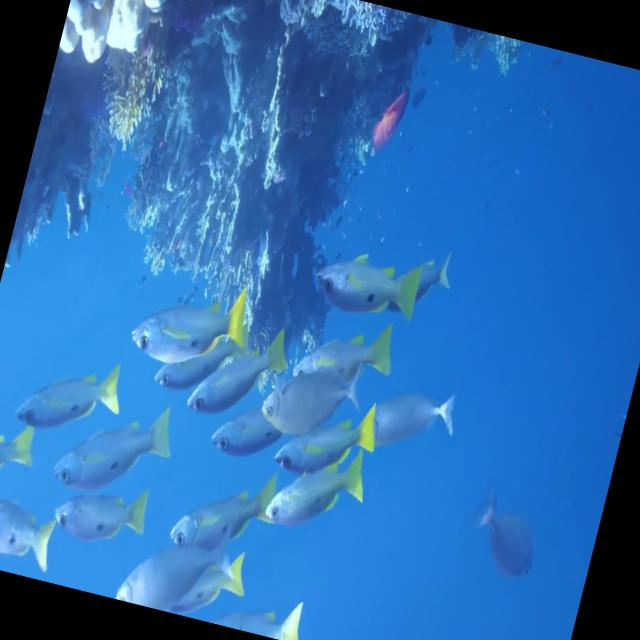fish: (122, 252, 264, 382), (49, 378, 181, 512), (177, 312, 300, 444), (115, 522, 250, 628), (163, 459, 279, 576), (16, 337, 136, 450), (254, 432, 370, 548), (182, 313, 292, 434), (252, 344, 366, 448), (306, 235, 424, 332), (283, 309, 397, 407), (49, 462, 154, 562), (273, 406, 381, 490), (367, 372, 462, 464), (0, 412, 44, 519), (0, 492, 60, 569), (239, 591, 309, 640)
